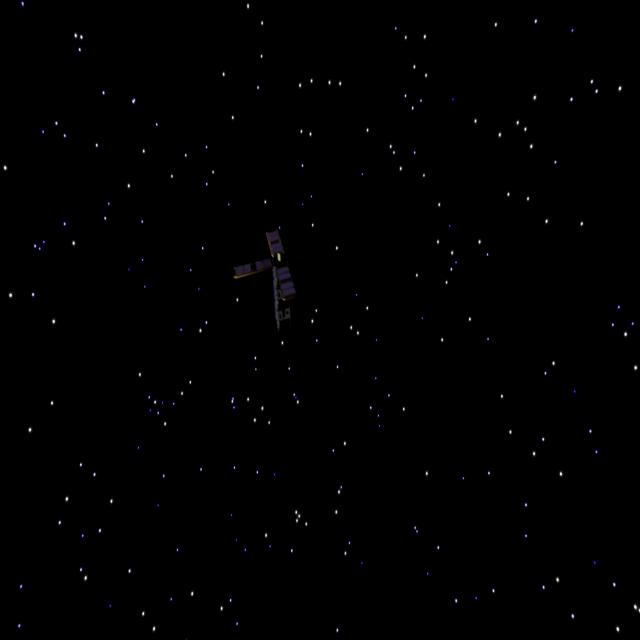medium_debris: (226, 219, 314, 330)
